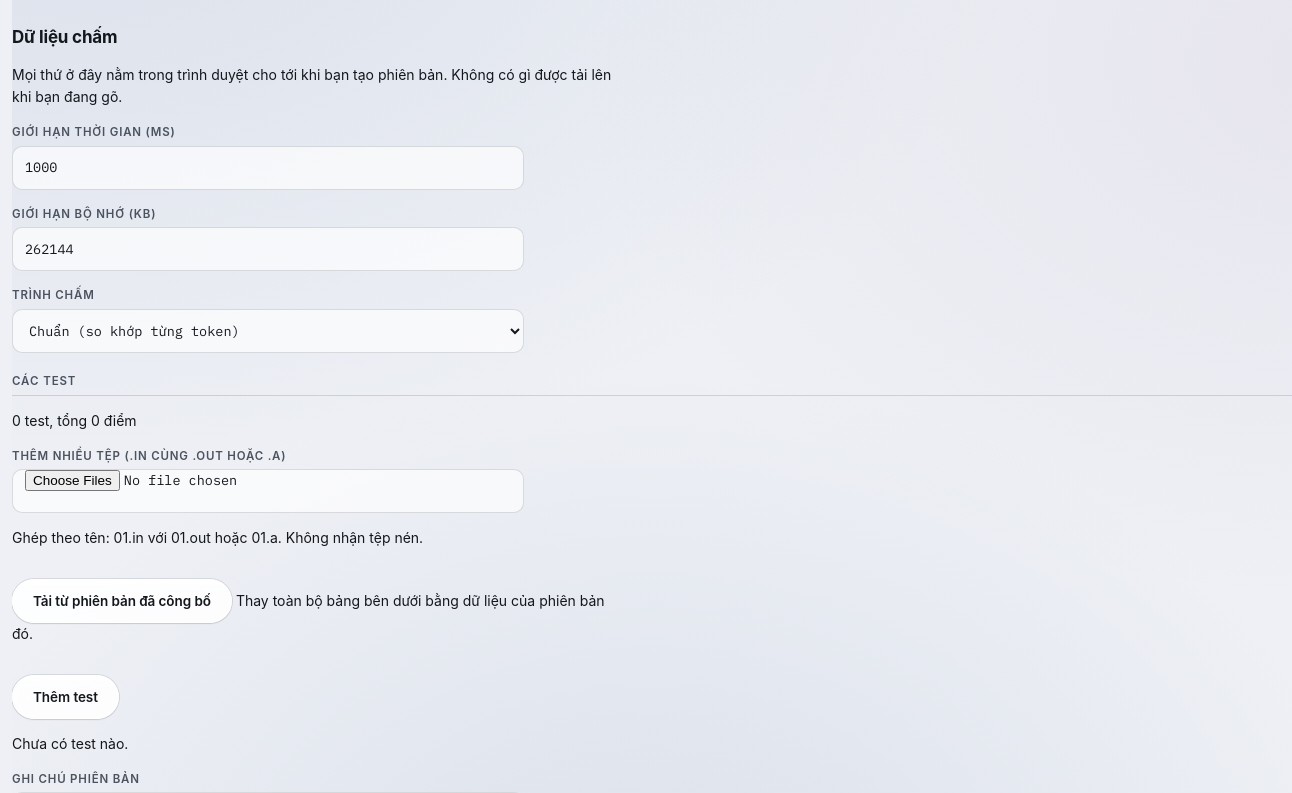
the test-data tab › says so when the problem has no revision to load
This screenshot has width=1292, height=793.
What coordinates should you click on to do the following:
click the button "Tải từ phiên bản đã công bố"
I would click on:
 (122, 601)
Its box is [12,579,232,623].
(page scrolled)
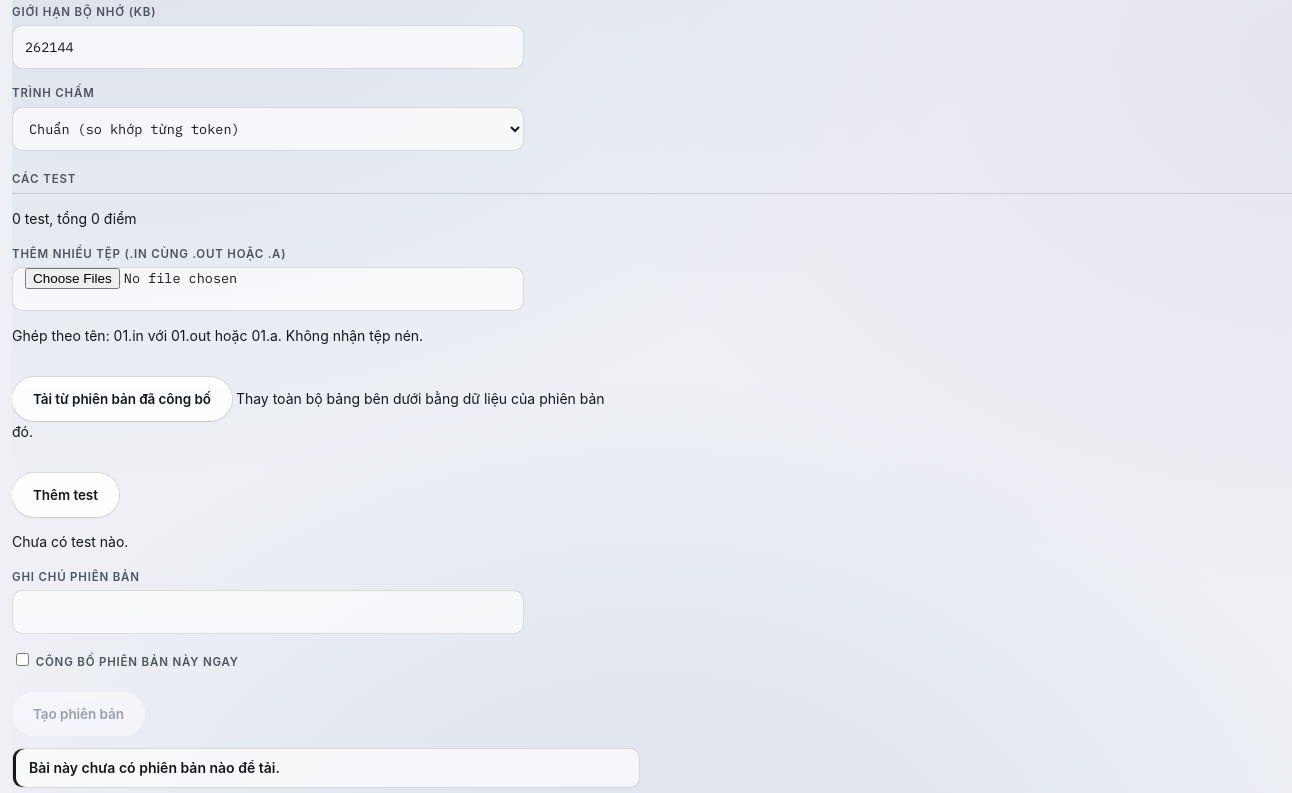
expect the message reads "Bài này chưa có phiên bản nào để tải.": met, box [29,759,280,776]
